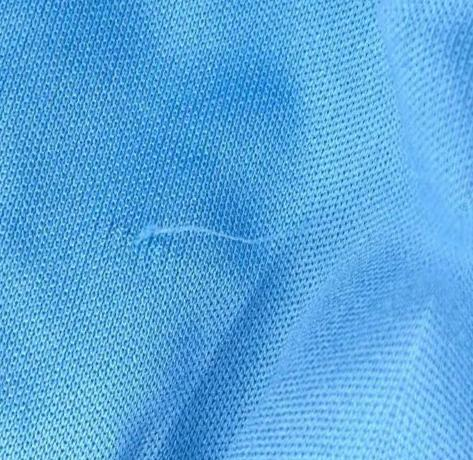snag: (117, 208, 295, 275)
